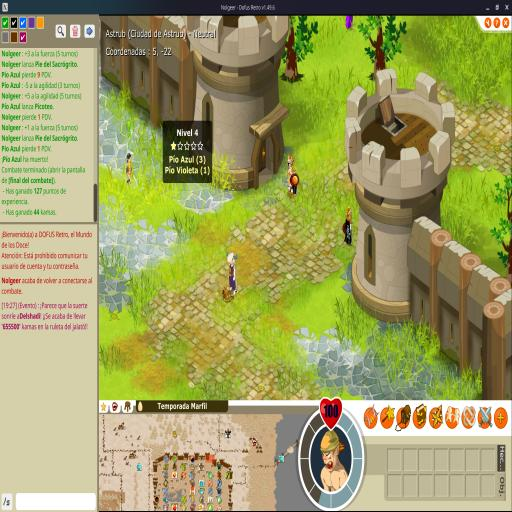Personaje: (345, 15, 355, 32)
